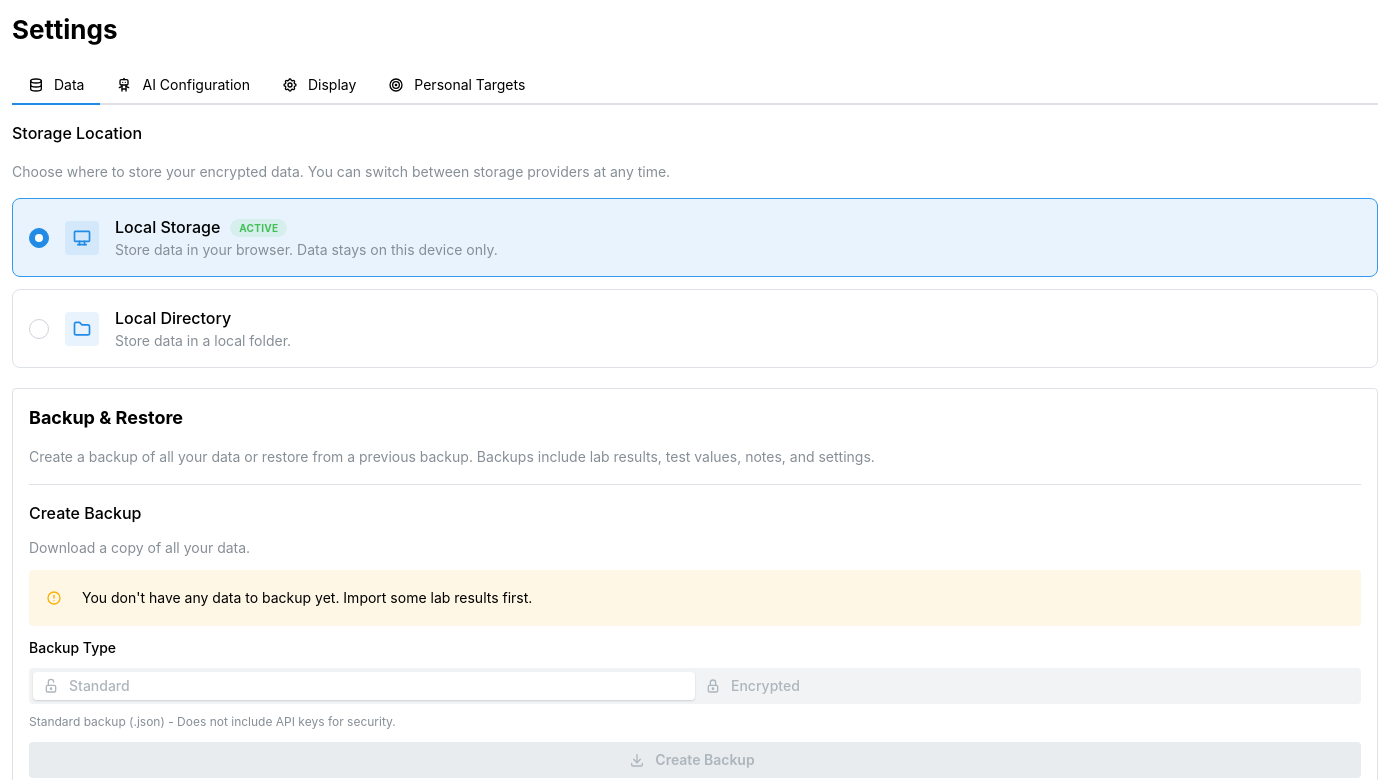
SettingsPage › tab navigation › should switch to AI Configuration tab when clicked
Step 1. Click the tab "AI Configuration" → point(183, 86), box x1=100 y1=67 x2=266 y2=105
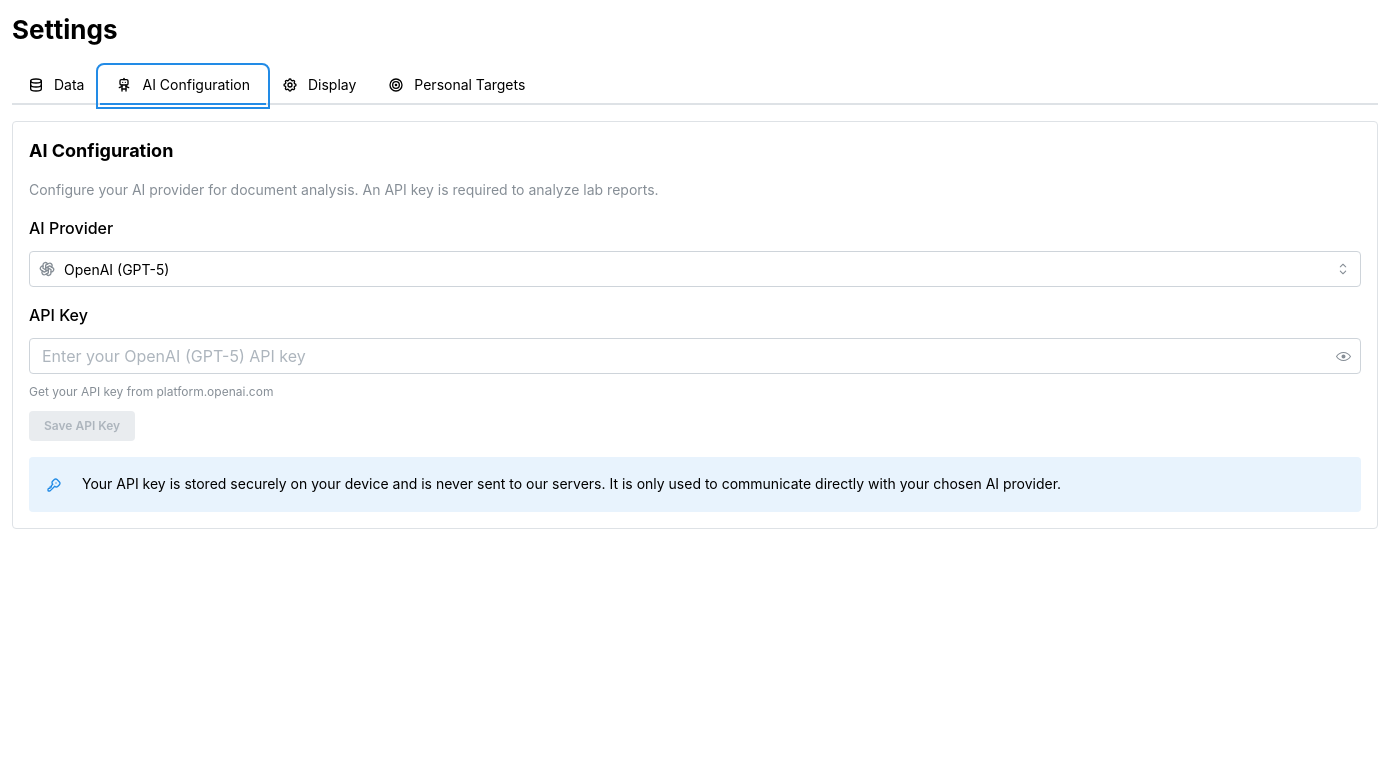
Result: the heading "AI Configuration" is shown at x1=29 y1=140 x2=173 y2=161
